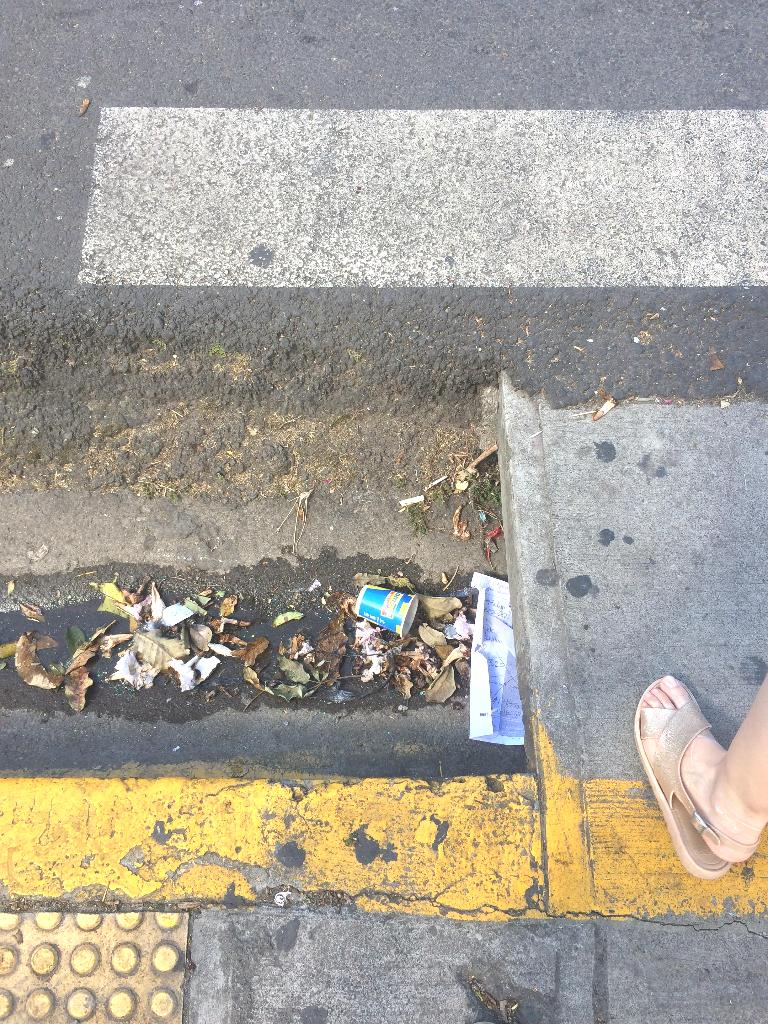garbage: (348, 564, 439, 642)
